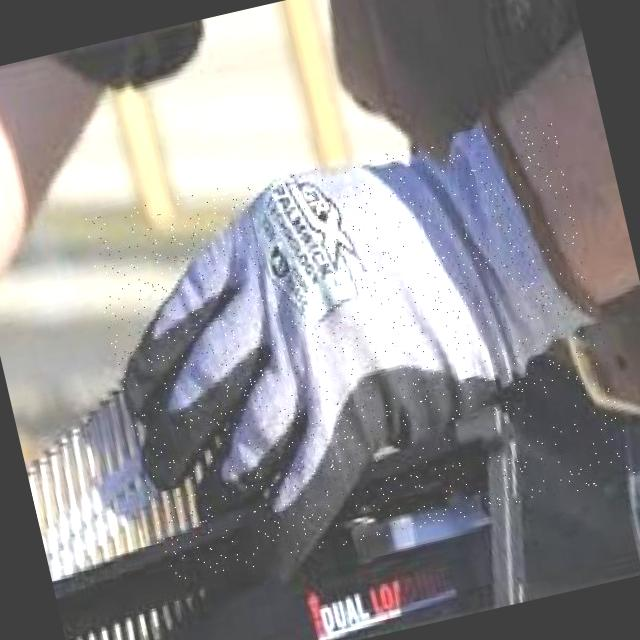gloves: (71, 109, 640, 601)
